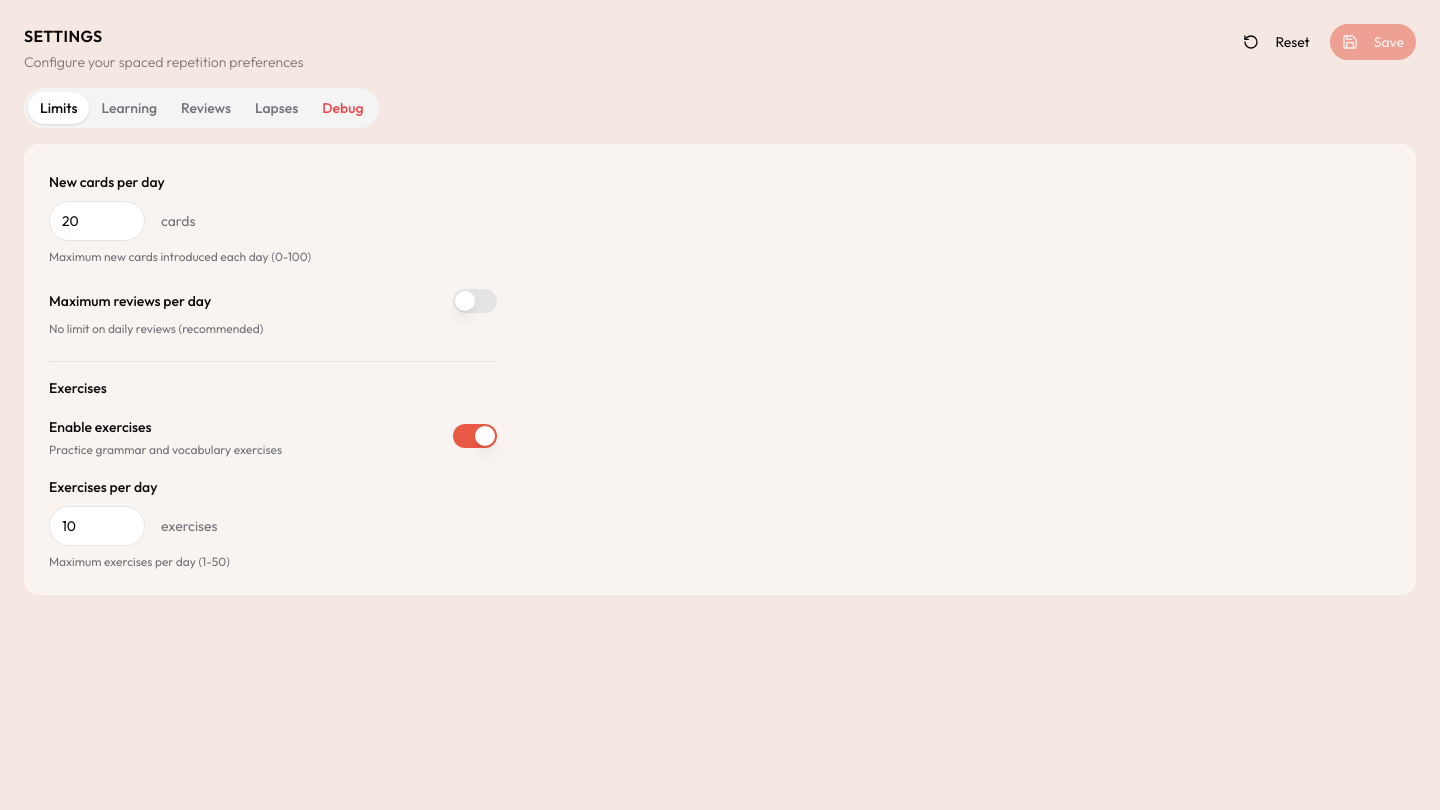
Scenario: SettingsPage › SRS settings › shows learning steps input with loaded values
Note: Click Learning tab
Click the tab "Learning".
click(129, 108)  # box [90, 92, 169, 124]
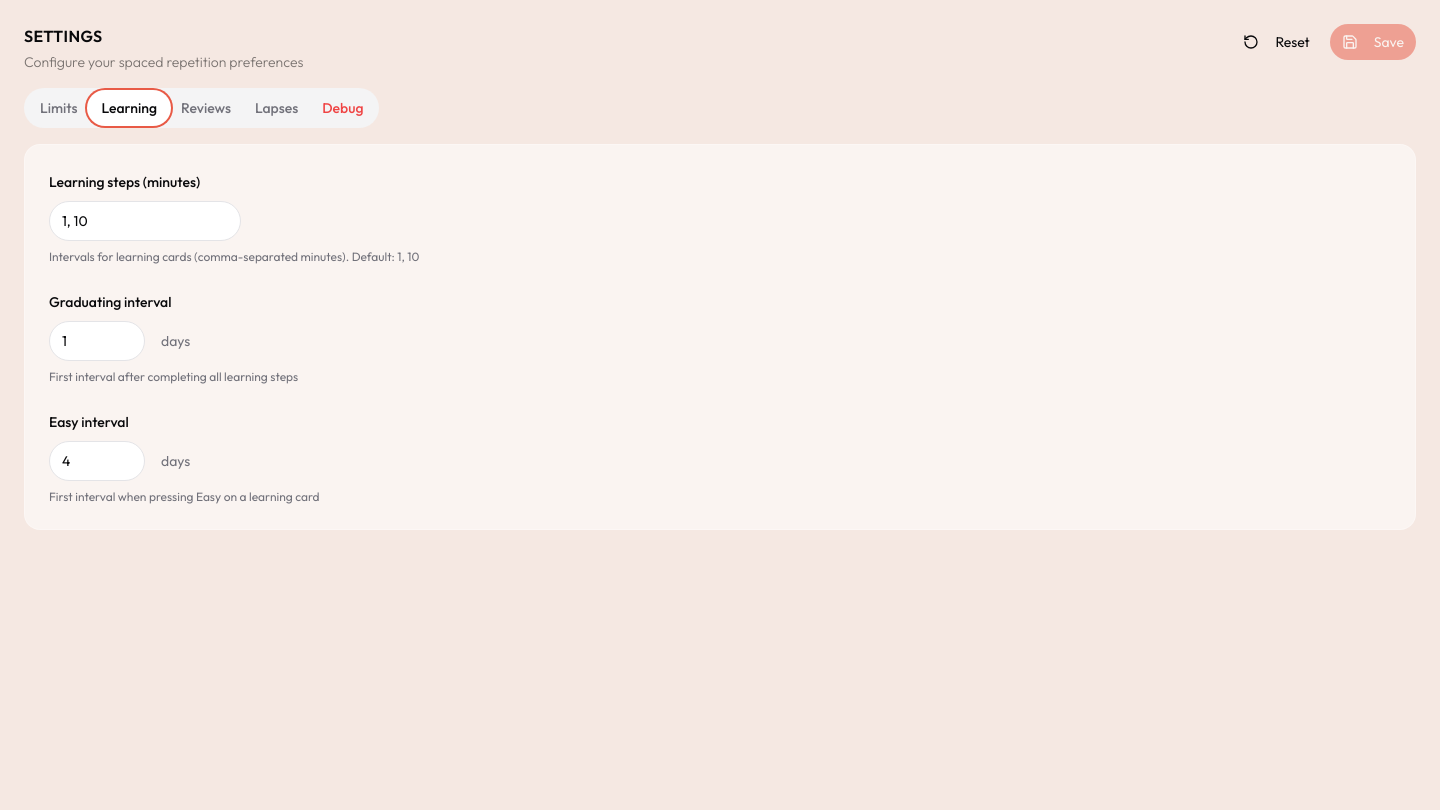
Now the text "Learning steps (minutes)" is shown, box [49, 173, 200, 191]
Now the field with id "learning-steps" holds "1, 10", box [49, 201, 241, 241]
